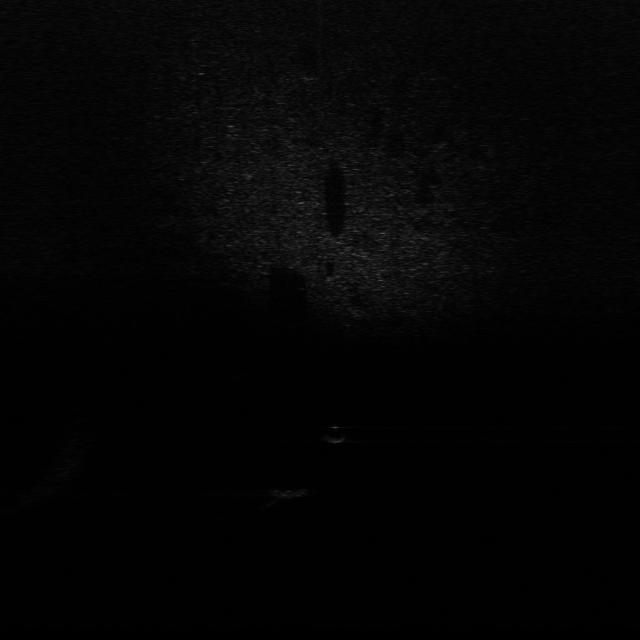ball: (322, 424, 348, 446)
square cage: (264, 482, 320, 502)
